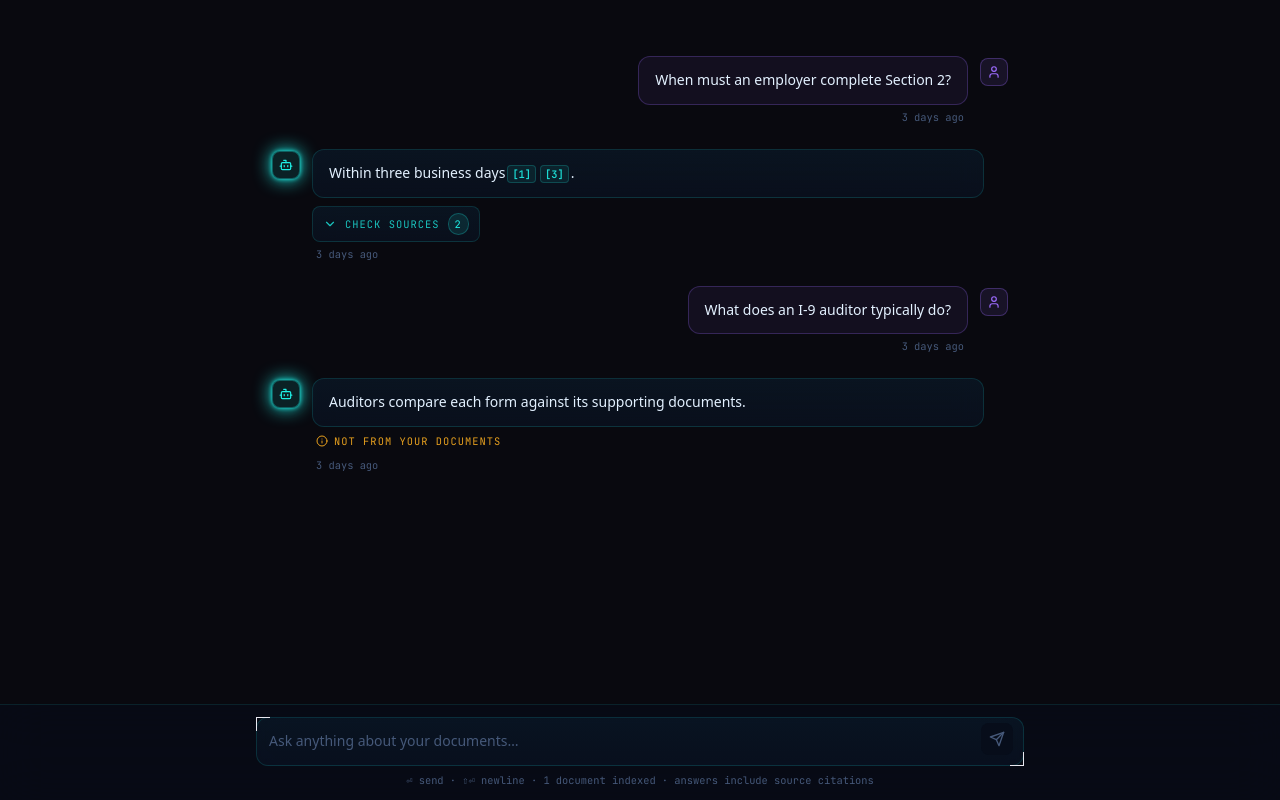
Scenario: source cards › show the rank among the passages, not a percentage
The width and height of the screenshot is (1280, 800).
Expected: the text "Within three business days" is shown, [329,163,505,182]
Click the button "Check sources 2" at (396, 224), box [312,206,480,242]
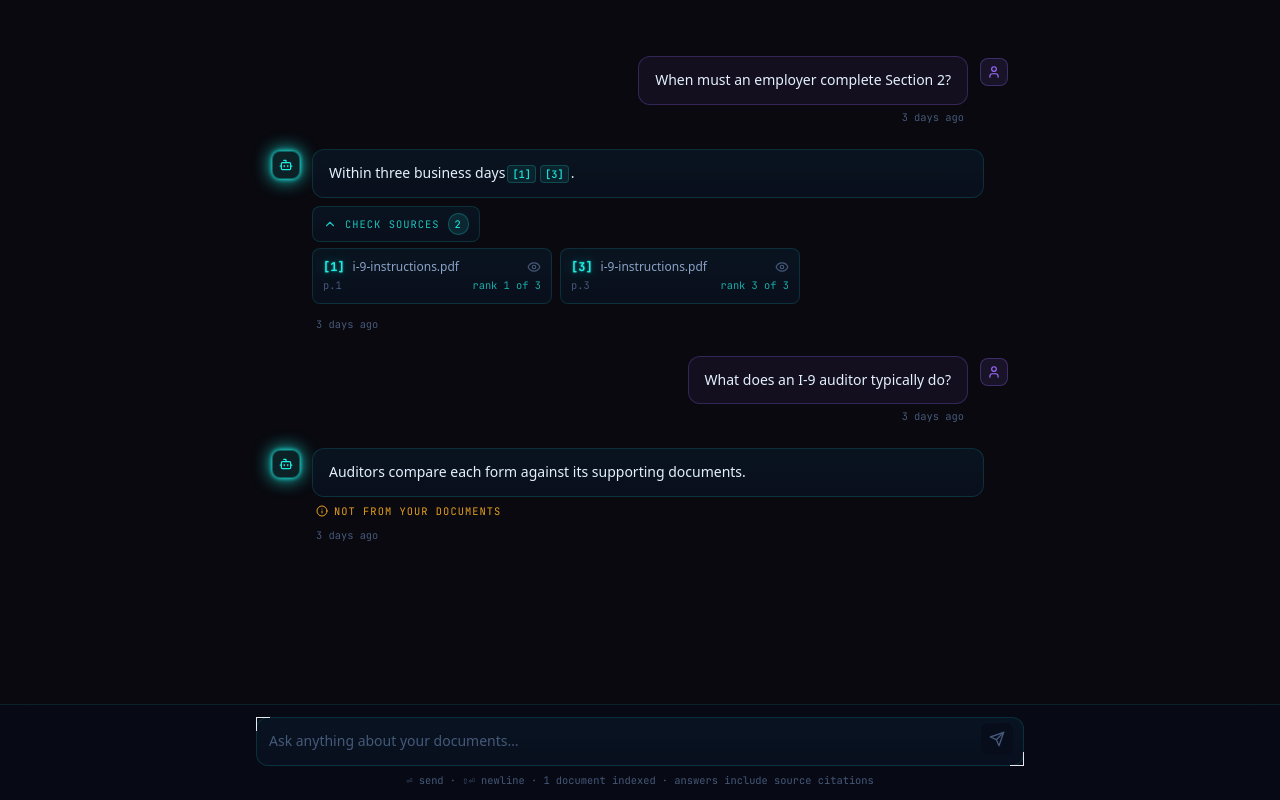
Expected: the text "rank 1 of 3" is shown, [472,276,541,292]
Expected: the text "rank 3 of 3" is shown, [720,276,789,292]
